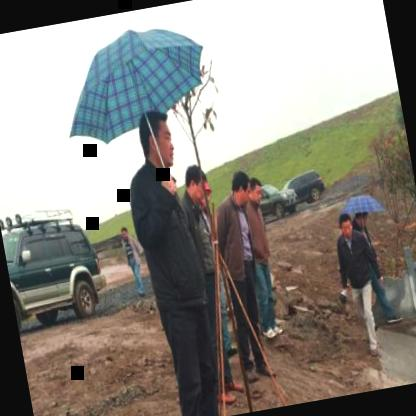head: (136, 96, 181, 176), (179, 158, 211, 212), (225, 167, 255, 212), (336, 210, 358, 244), (247, 176, 267, 209), (353, 206, 372, 228), (118, 222, 130, 240)
